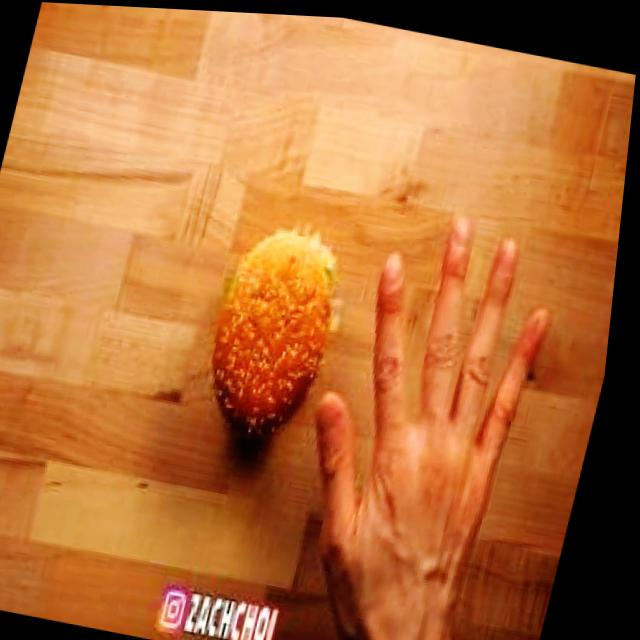burger: (189, 218, 358, 449)
